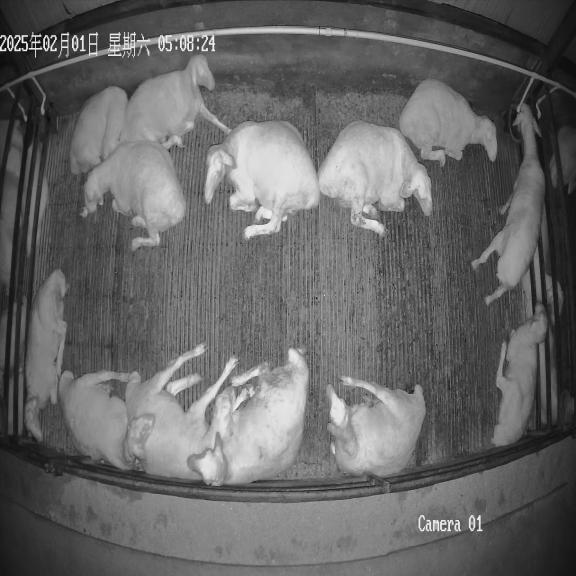drinking: (472, 104, 545, 305)
lying: (125, 344, 254, 480), (189, 348, 309, 486), (204, 120, 320, 239), (318, 120, 432, 236), (81, 141, 186, 250), (118, 55, 230, 148), (327, 376, 426, 478), (59, 371, 155, 470), (399, 79, 497, 166), (492, 304, 547, 446), (24, 270, 67, 441), (70, 86, 129, 175)
